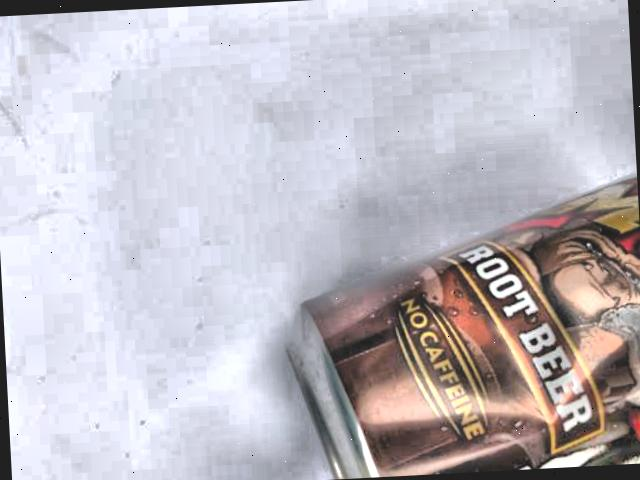Bottles: (284, 159, 640, 480)
